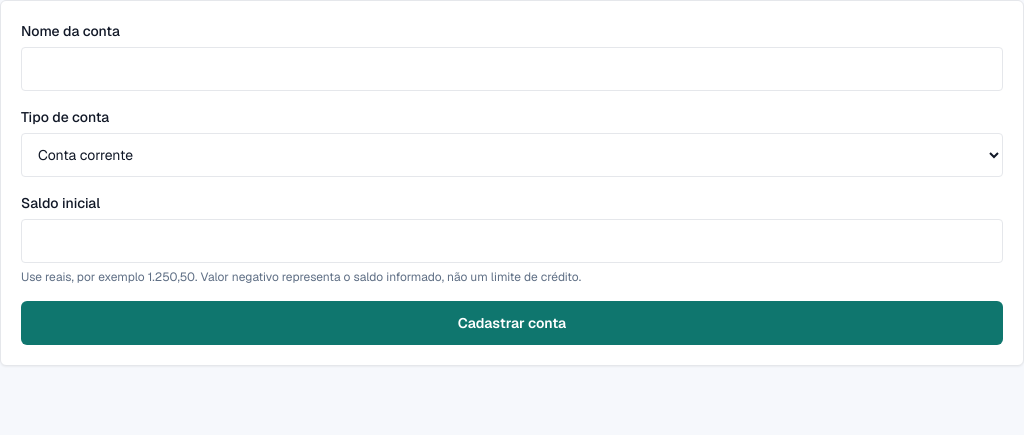
Test: AccountForm › shows an accessible error and does not submit an invalid balance
In the field labelled "Nome da conta": (512, 69) [21,47,1003,91], type "Conta principal"
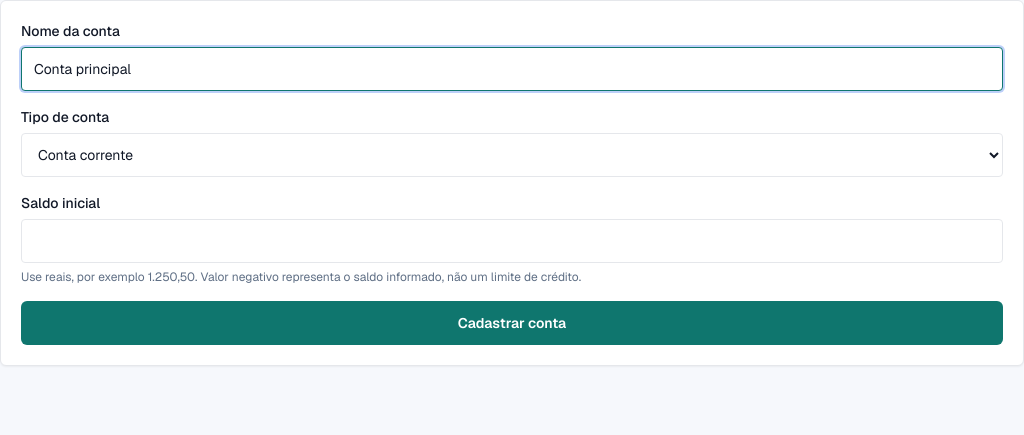
In the field labelled "Saldo inicial": (512, 241) [21,219,1003,263], type "10,999"
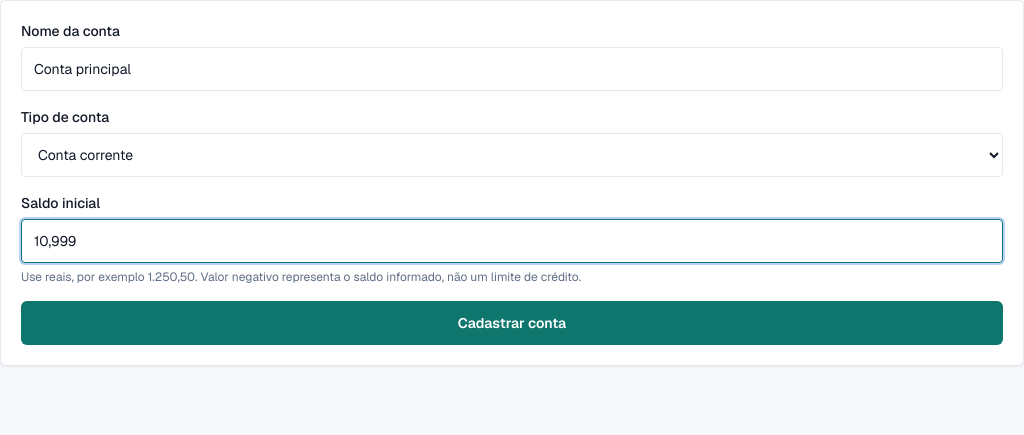
Click the button "Cadastrar conta": click(512, 323) [21,301,1003,345]
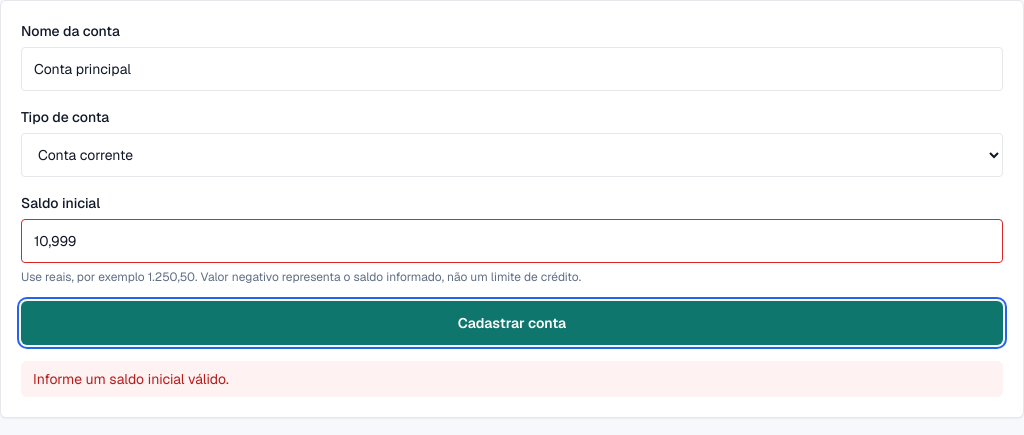
Now the message reads "Informe um saldo inicial válido.", box [33,370,229,388]
